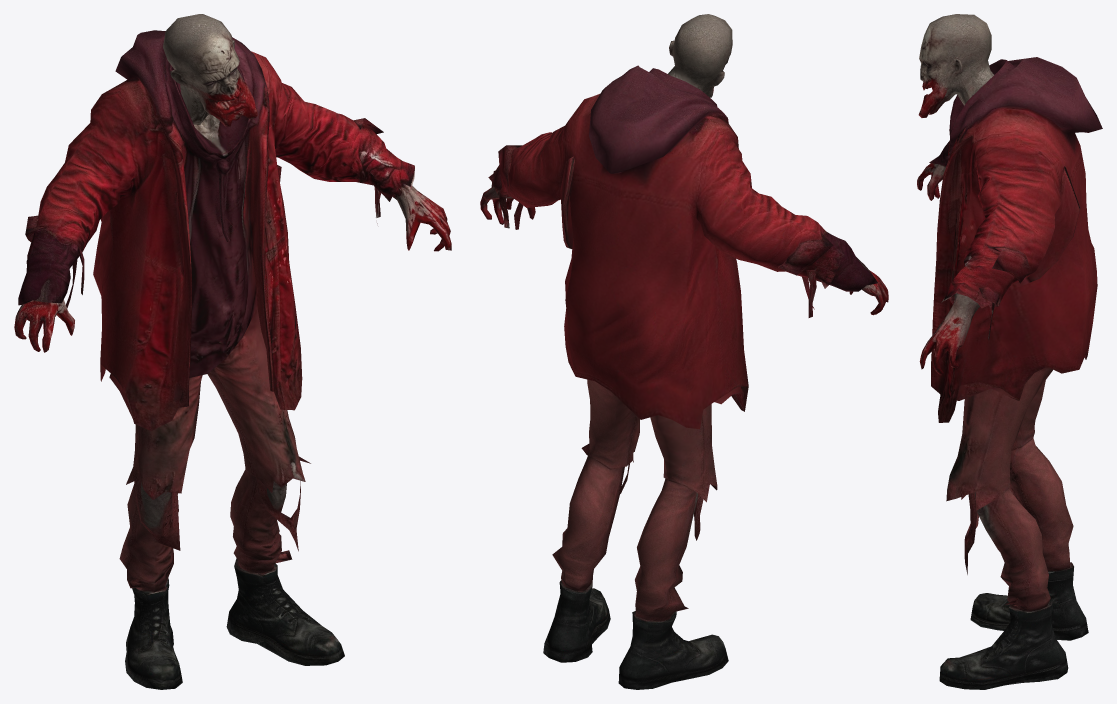
File: zombie_red.glb
3 renders of one model, left to right at view 1: azimuth 30°, elevation 25°; view 2: azimuth 150°, elevation 25°; view 3: azimuth 270°, elevation 25°, orthographic. The views are drawn at different scales.
Parts seen in each view (by area): view 1: mesh_node; view 2: mesh_node; view 3: mesh_node.
Part boxes in pixels (<box>): mesh_node: <box>14,14,451,689</box>; mesh_node: <box>480,14,888,689</box>; mesh_node: <box>917,14,1102,689</box>.
Bounding box in the file's own units: 0.6738 × 1 × 0.2754.
Materials: 1 (1 with a texture image).
